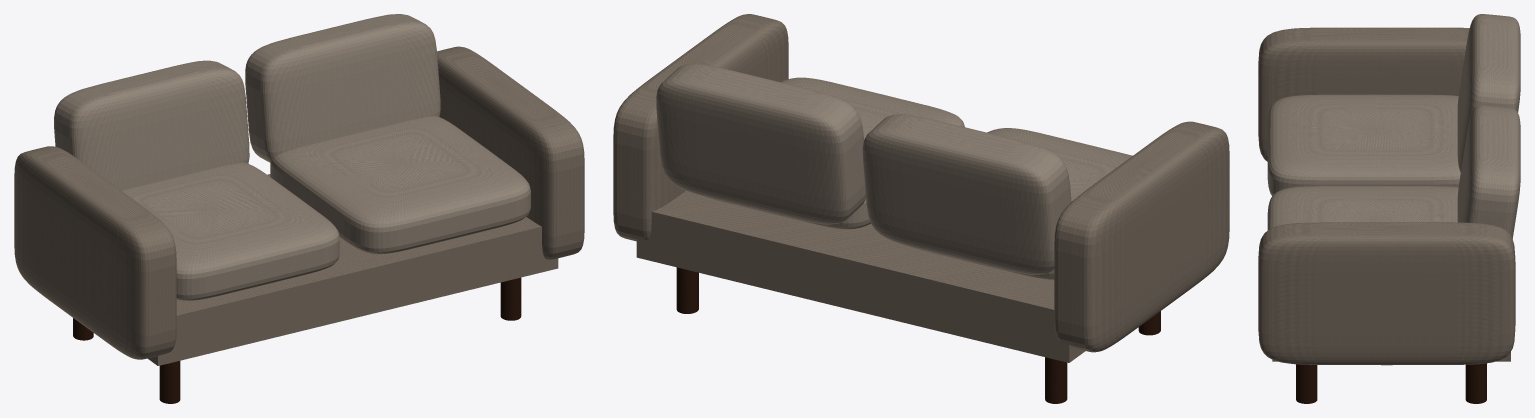
The model's file is sofa-2.glb.
The picture shows the model from 3 angles, left to right: view 1: azimuth 30°, elevation 25°; view 2: azimuth 150°, elevation 25°; view 3: azimuth 270°, elevation 25°; orthographic projection. The views are drawn at different scales.
Parts seen in each view (by area): view 1: arm_left, seat_2, base, back_2, back_1, seat_1, arm_right, leg_4, leg_3; view 2: base, arm_left, back_2, back_1, arm_right, seat_2, seat_1, leg_2, leg_1; view 3: arm_right, seat_1, arm_left, seat_2, back_2, back_1, leg_2, leg_4.
Boxes of the visible parts, x1,y1,x2,y2 form: arm_left: (14, 146, 176, 359); seat_2: (270, 116, 530, 254); base: (148, 174, 558, 365); back_2: (245, 14, 440, 162); back_1: (54, 60, 249, 190); seat_1: (122, 162, 339, 300); arm_right: (437, 46, 584, 259); leg_4: (500, 277, 521, 320); leg_3: (159, 361, 180, 403); base: (636, 191, 1085, 362); arm_left: (1054, 121, 1229, 352); back_2: (656, 63, 865, 224); back_1: (862, 114, 1071, 274); arm_right: (613, 14, 788, 241); seat_2: (703, 77, 964, 229); seat_1: (909, 128, 1132, 279); leg_2: (676, 267, 698, 313); leg_1: (1045, 357, 1067, 403); arm_right: (1258, 222, 1515, 365); seat_1: (1267, 94, 1460, 195); arm_left: (1258, 27, 1469, 161); seat_2: (1267, 186, 1458, 229); back_2: (1457, 105, 1520, 238); back_1: (1457, 14, 1520, 172); leg_2: (1465, 363, 1486, 403); leg_4: (1296, 364, 1317, 403).
Size of the model in its own units: 1.75 by 0.86 by 0.9.
3 materials, 3 textured.
